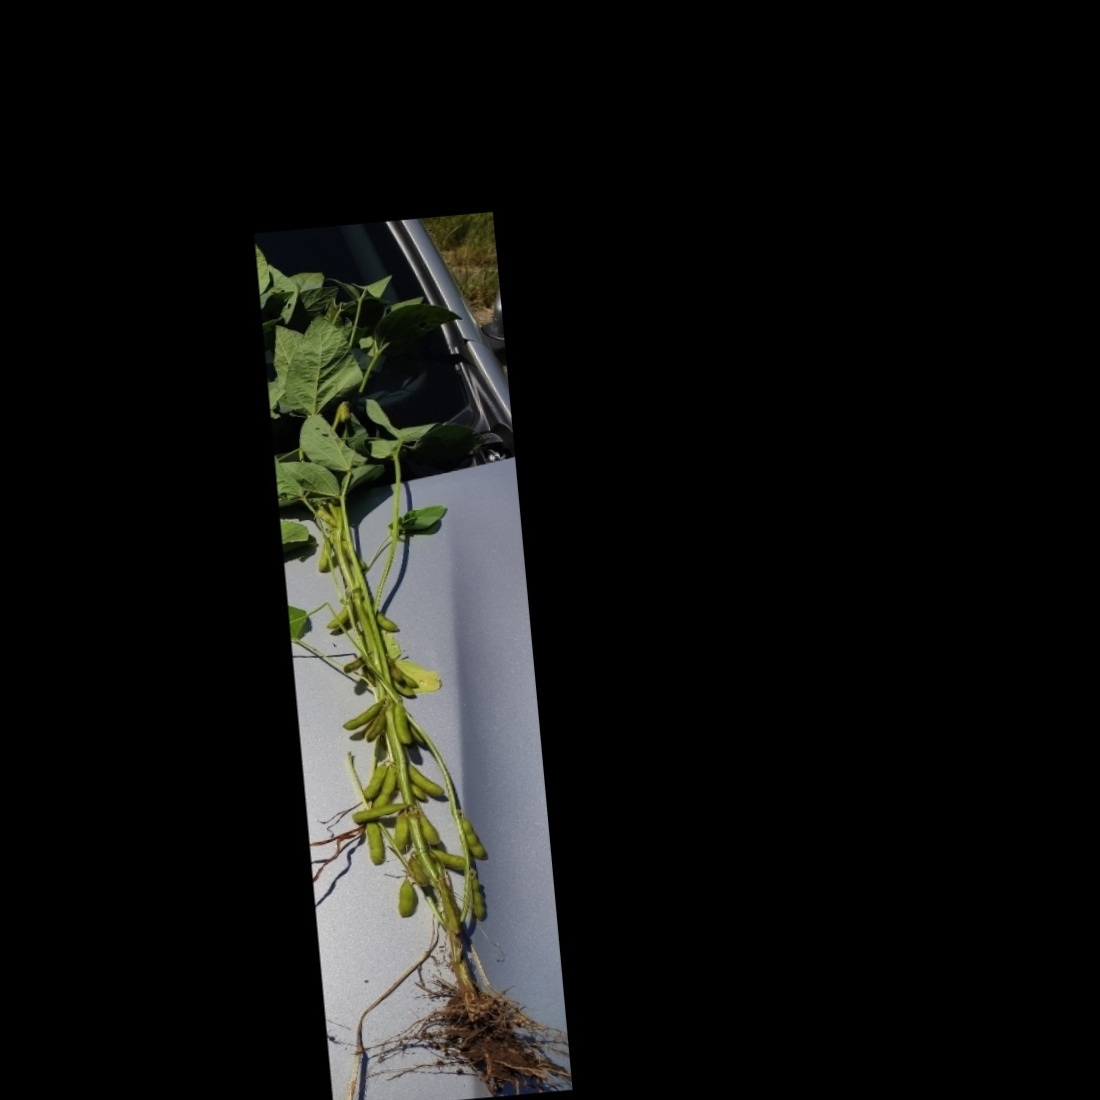pod: (405, 757, 447, 804), (359, 757, 397, 801), (460, 808, 488, 868), (342, 802, 416, 823), (363, 814, 390, 870), (338, 701, 383, 730), (392, 696, 415, 751), (393, 873, 418, 923), (417, 806, 445, 848), (468, 871, 488, 927)
soy: (256, 233, 568, 1100)
